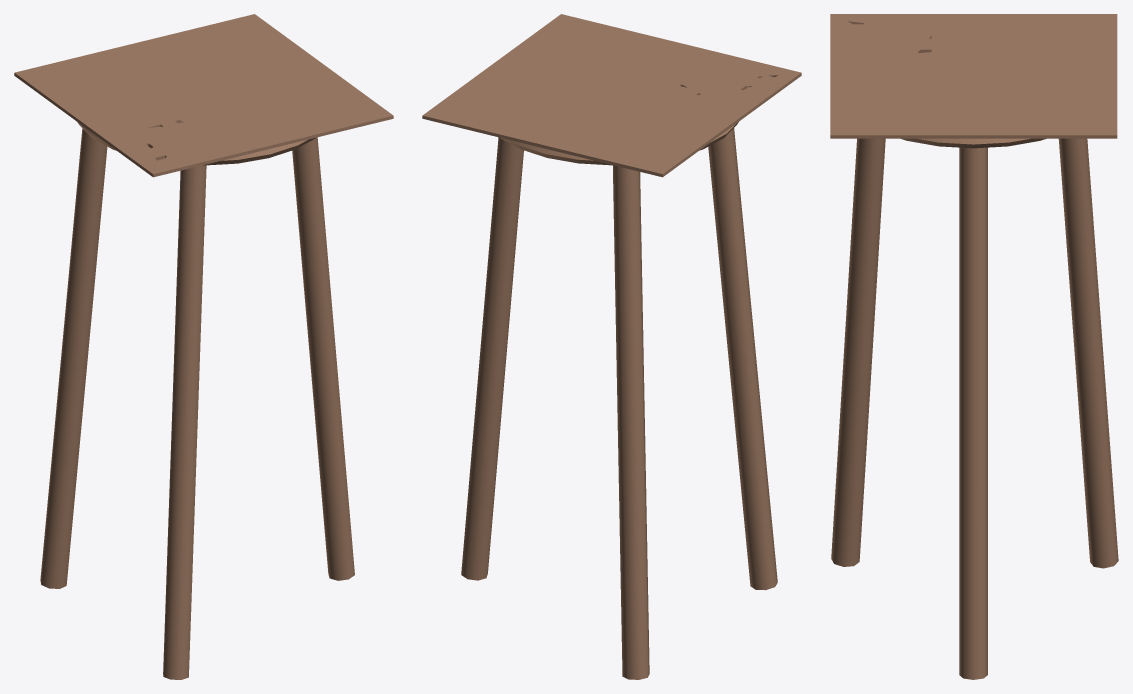
Rendered from branderstatief.fbx.
The picture shows the model from 3 angles, left to right: view 1: azimuth 30°, elevation 25°; view 2: azimuth 150°, elevation 25°; view 3: azimuth 270°, elevation 25°; orthographic projection. The views are drawn at different scales.
Parts seen in each view (by area): view 1: Cube, Cylinder.001, Cylinder.002, Cylinder, Torus; view 2: Cube, Cylinder.002, Cylinder.001, Cylinder, Torus; view 3: Cube, Cylinder, Cylinder.002, Cylinder.001, Torus.
Part boxes in pixels (box(x1,y1,x2,y2)): Cube: box(14, 14, 393, 177); Cylinder.001: box(163, 165, 206, 679); Cylinder.002: box(40, 128, 107, 588); Cylinder: box(292, 137, 354, 580); Torus: box(77, 122, 316, 165); Cube: box(422, 14, 801, 177); Cylinder.002: box(612, 165, 649, 679); Cylinder.001: box(708, 128, 777, 590); Cylinder: box(461, 137, 523, 580); Torus: box(500, 122, 738, 165); Cube: box(830, 14, 1117, 138); Cylinder: box(959, 147, 987, 679); Cylinder.002: box(1058, 138, 1118, 568); Cylinder.001: box(831, 138, 885, 566); Torus: box(901, 138, 1046, 148).
Size of the model in its own units: 29.28 by 53.4 by 26.22.
